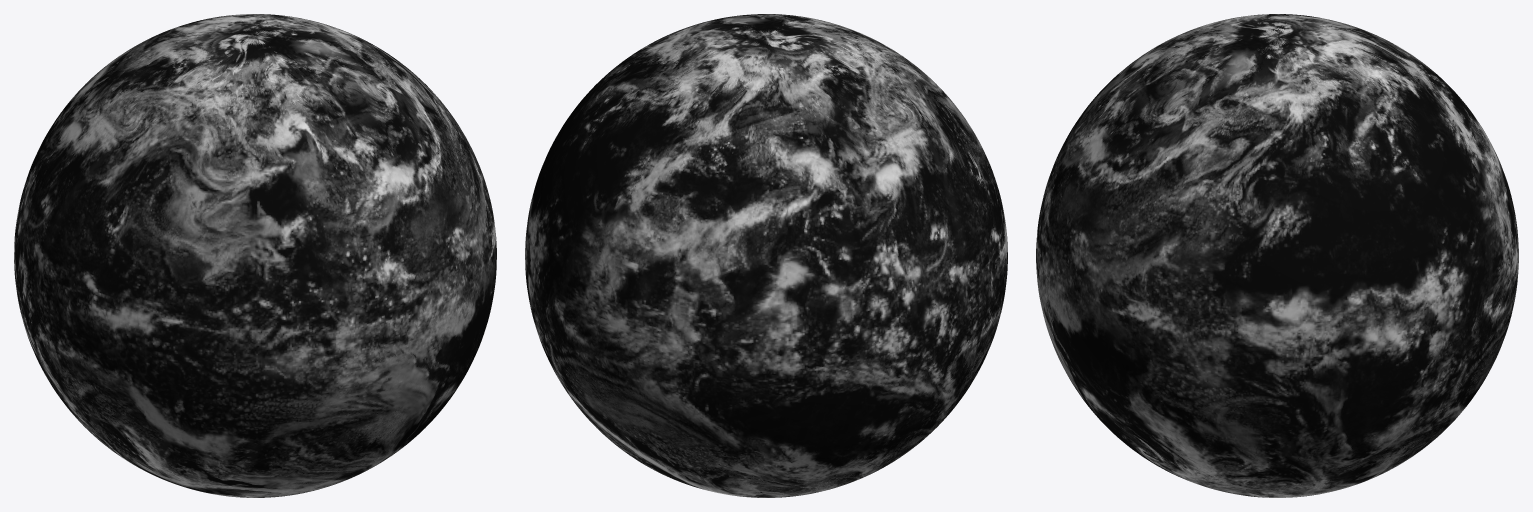
File: Earth.glb
3 views of the same model, side by side, from view 1: azimuth 30°, elevation 25°; view 2: azimuth 150°, elevation 25°; view 3: azimuth 270°, elevation 25° (orthographic).
Visible parts, largest first — view 1: Earth; view 2: Earth; view 3: Earth.
Boxes of the visible parts, <box> form: Earth: <box>14,14,496,497</box>; Earth: <box>525,14,1007,497</box>; Earth: <box>1036,14,1518,497</box>.
Bounding box in the file's own units: 1.99 × 2 × 1.99.
1 material, 1 textured.
